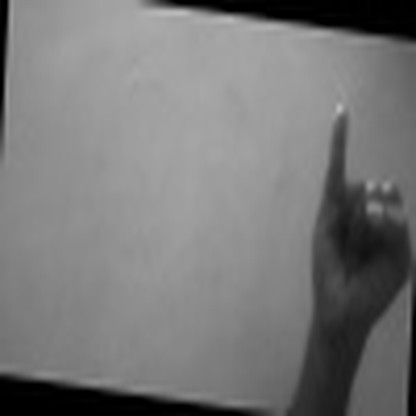i: (291, 97, 411, 352)
